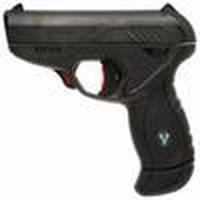gun: (1, 4, 200, 154)
